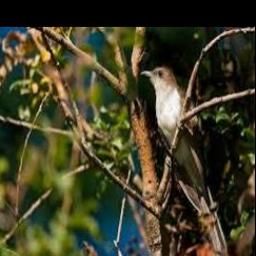Cuckoo: (141, 67, 228, 256)
